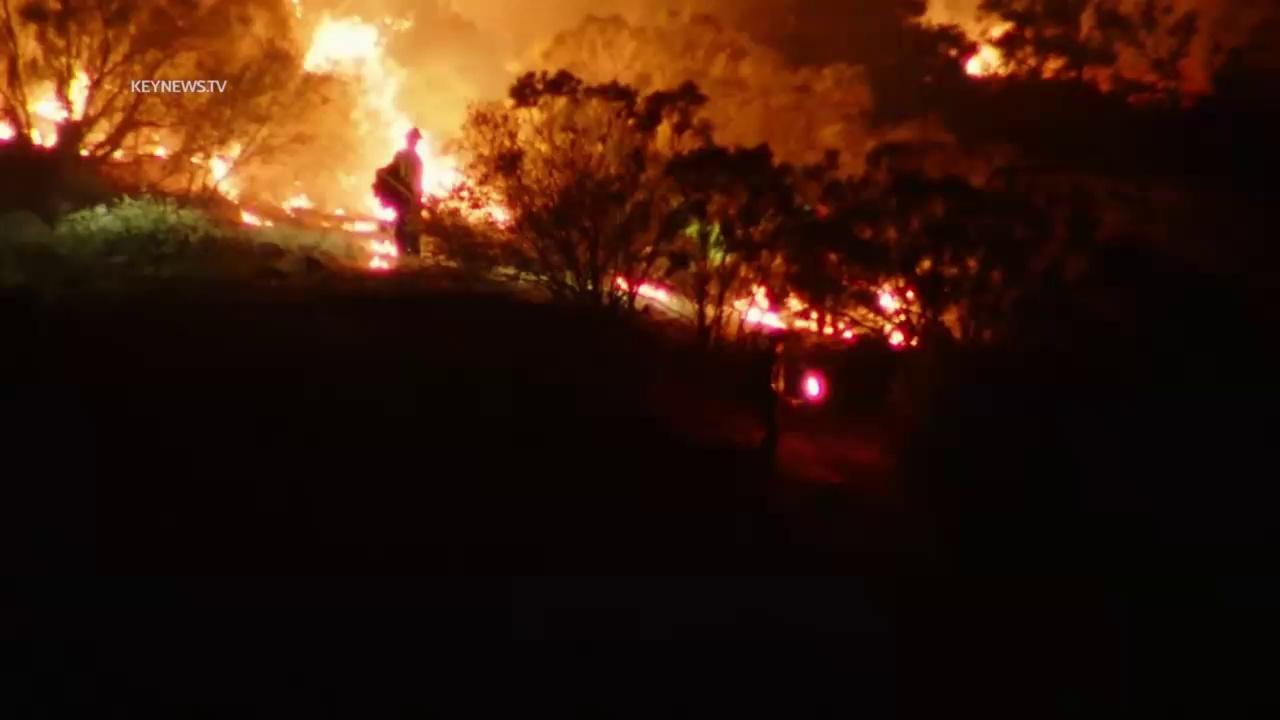fire: (306, 12, 514, 224), (25, 62, 93, 147), (784, 292, 858, 339), (731, 284, 788, 332), (207, 141, 244, 204), (612, 272, 673, 302), (873, 286, 916, 317), (364, 238, 400, 272), (280, 191, 317, 222), (368, 187, 400, 222), (798, 367, 829, 403), (963, 44, 987, 81), (237, 206, 274, 228), (337, 219, 382, 236), (884, 326, 907, 348), (0, 116, 19, 142), (152, 145, 171, 159), (77, 146, 94, 160)
smoke: (0, 0, 912, 230)
